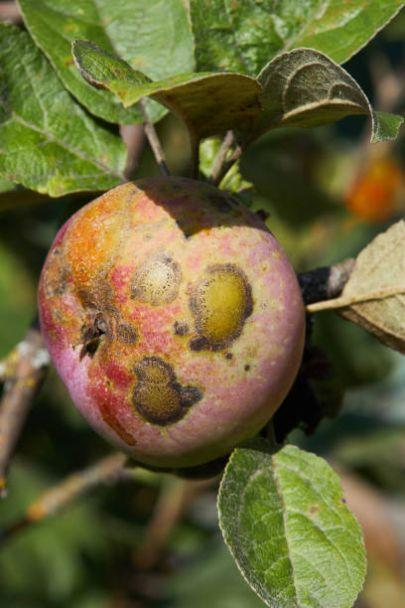SCAB: (30, 155, 325, 483)
